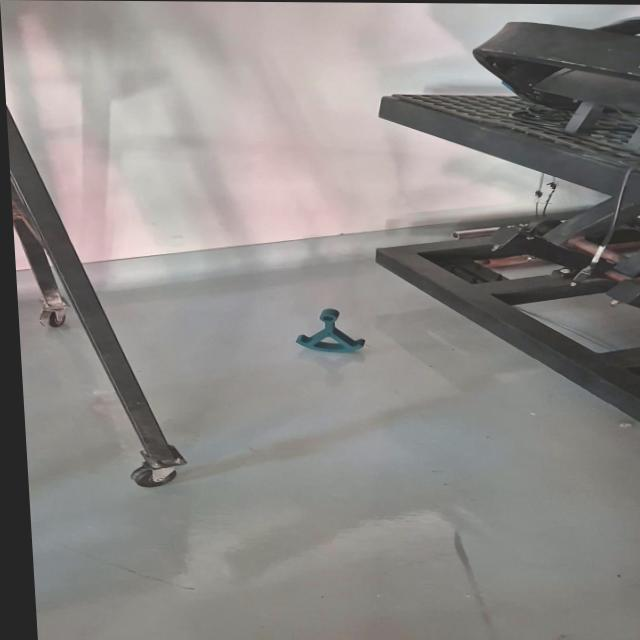haptic: (293, 308, 367, 354)
